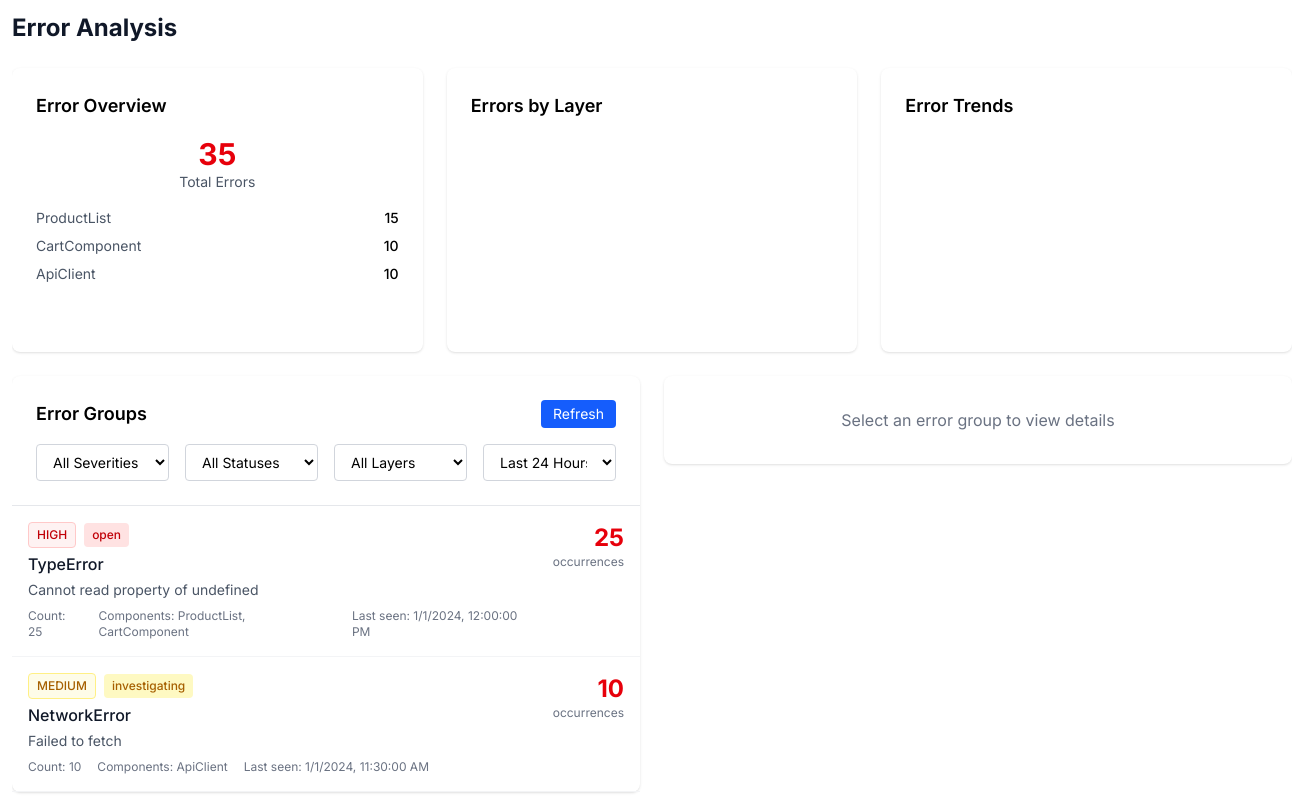
ErrorAnalysisInterface › displays error metadata correctly
The image size is (1292, 812).
Click the text "TypeError" at (66, 564), box [28,554,104,574]
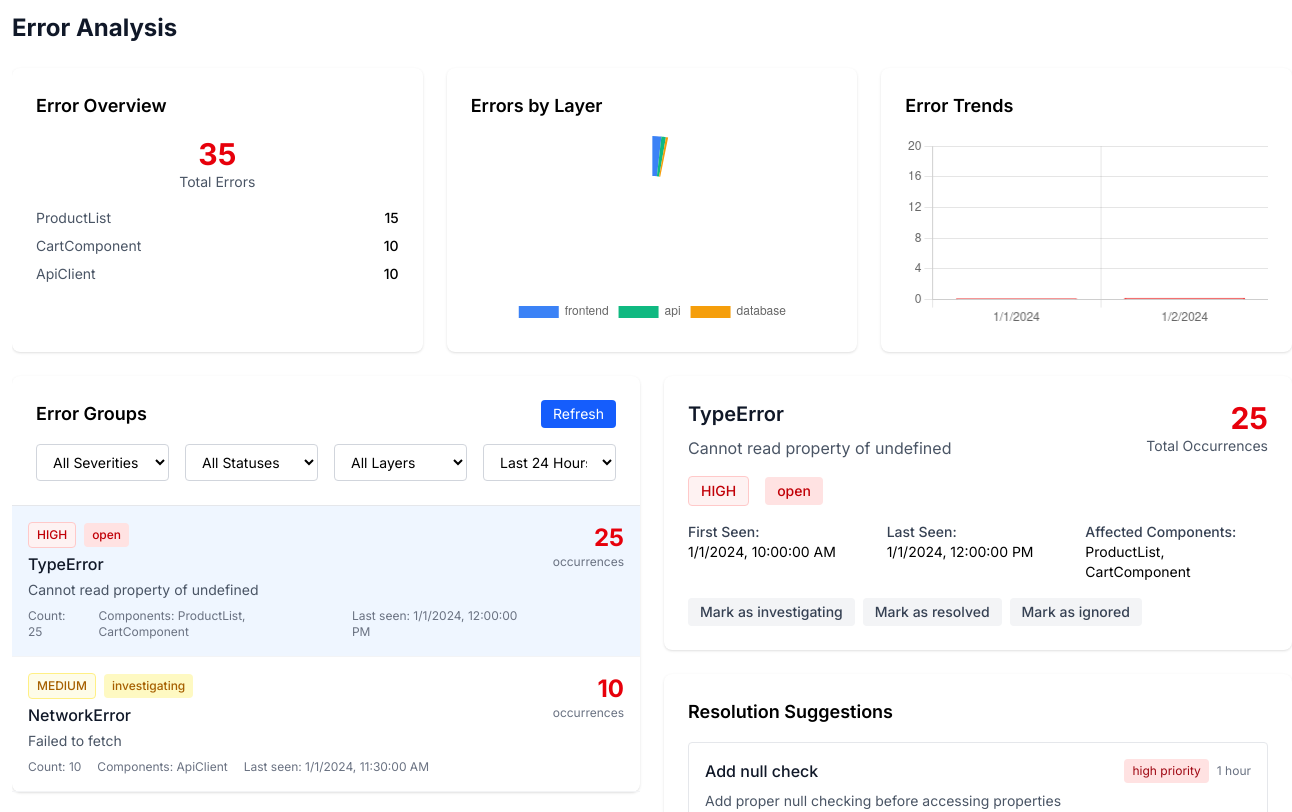
Result: the text "First Seen:" is shown at [688,523,759,540]
Result: the text "Last Seen:" is shown at [887,523,957,540]
Result: the text "Affected Components:" is shown at [1085,523,1236,540]
